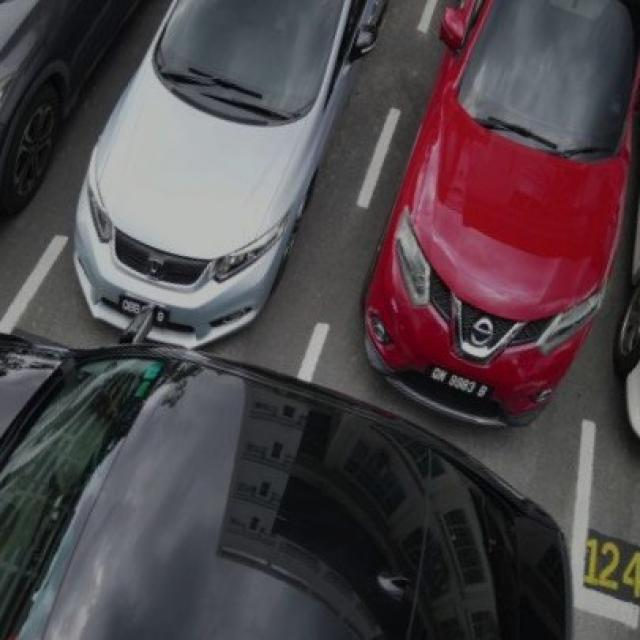Legalparking: (365, 0, 638, 422), (74, 0, 386, 346), (76, 0, 384, 346)
illegalparking: (0, 333, 572, 638)
